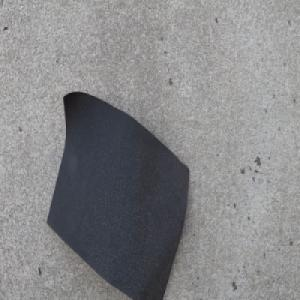PaintChip: (46, 89, 190, 300)
